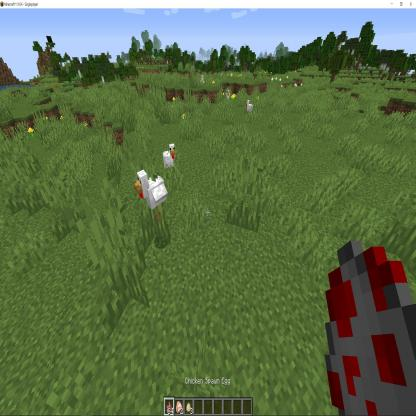minecraft-pigs: (134, 169, 168, 222), (161, 141, 181, 175), (245, 97, 254, 116), (225, 88, 232, 103), (199, 75, 206, 87)
